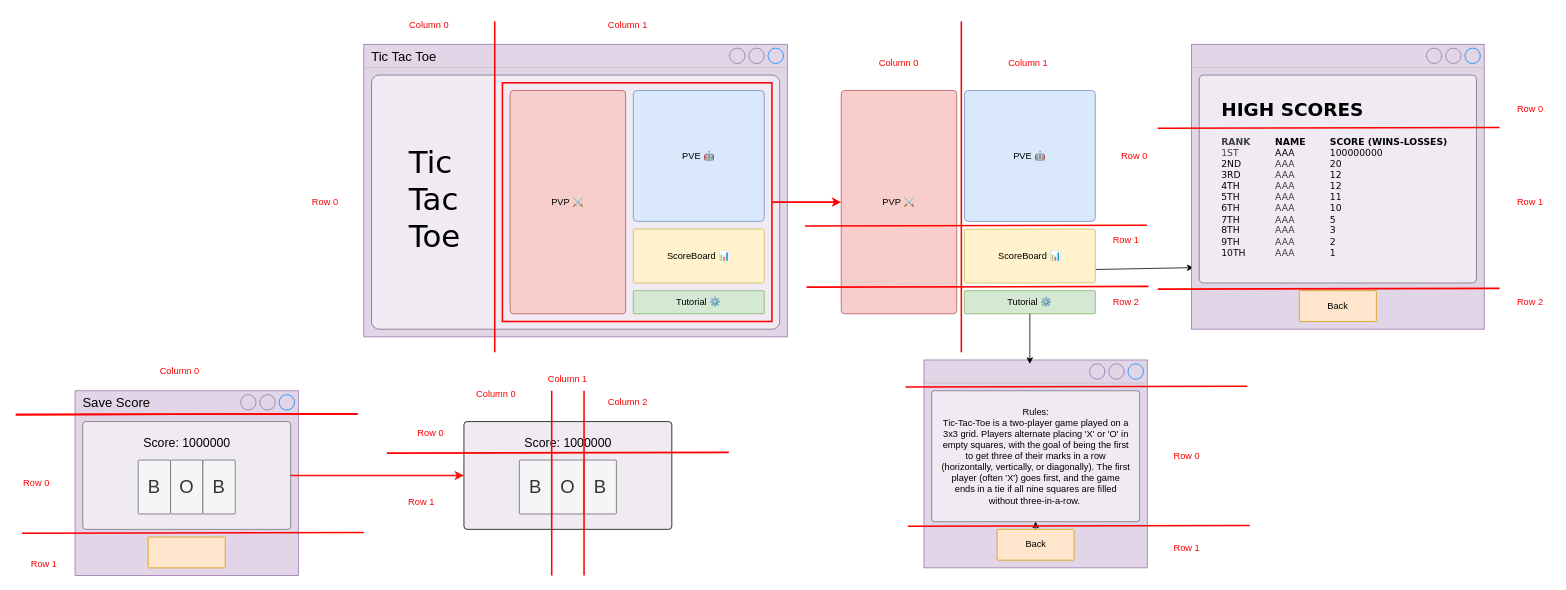
Image size: 1566x590. Some labels were removed from this diagram. The shapes that lost their labels are listed below. From the top down, each one's box as (x1, y1, x2, y2) in pixels, then its label:
(1191, 44, 1484, 329): ScoreBoard
(923, 359, 1147, 568): Tutorial
(147, 536, 225, 568): Save
